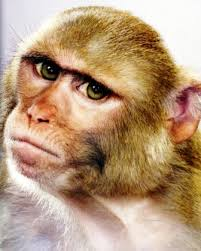monkey: (11, 7, 183, 232)
